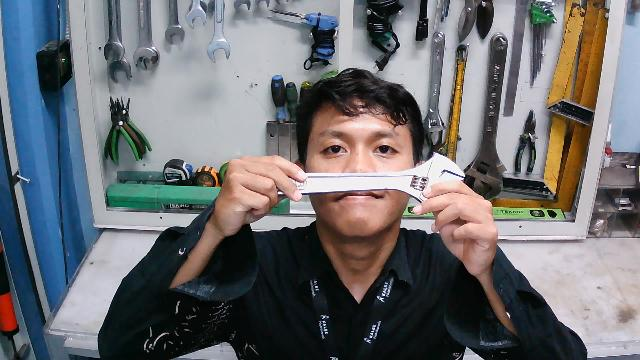kunci_inggris: (261, 149, 466, 205)
